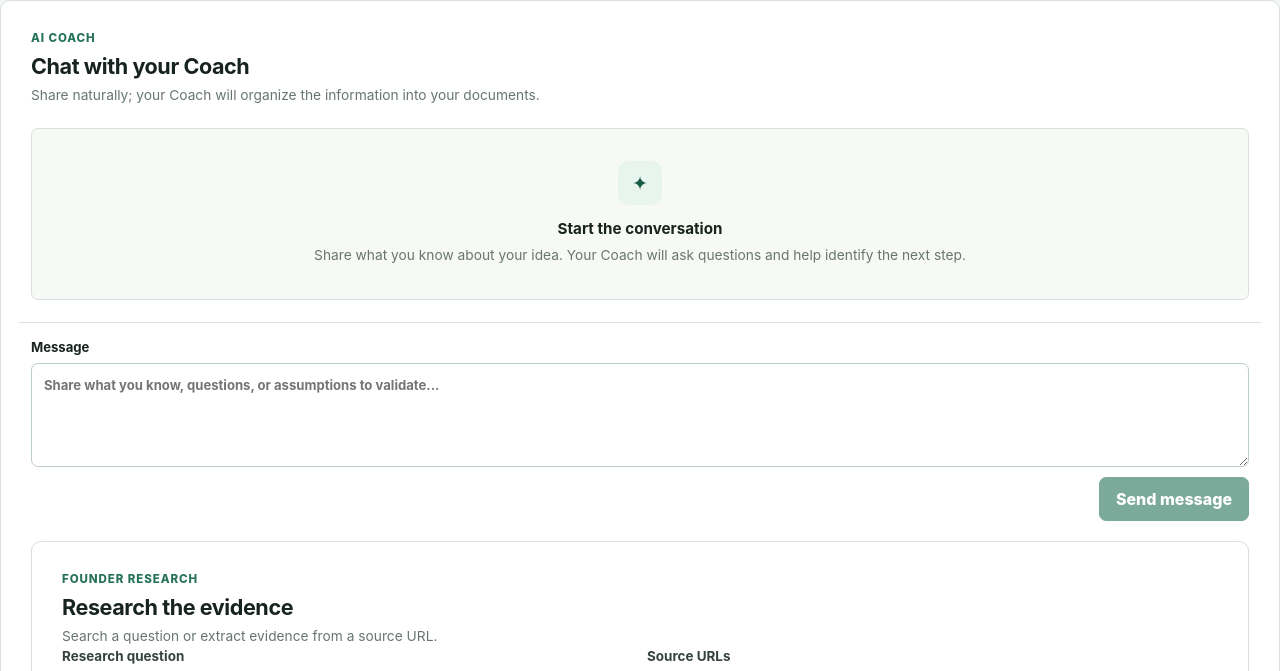
Scenario: ChatPanel › renders structured evidence returned by a chat research turn
Type "Research this" into the text box labelled "Message" at x=640, y=415, box [31,363,1249,467]
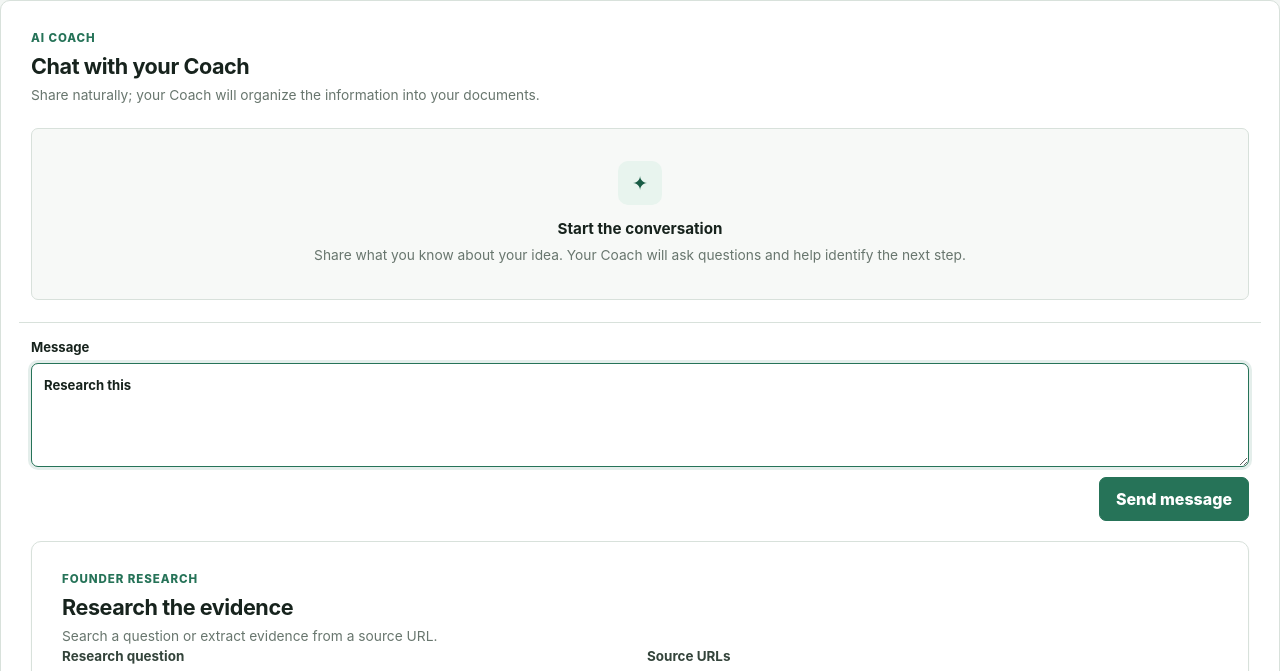
Click the button "Send message" at x=1174, y=499, box [1099,477,1249,521]
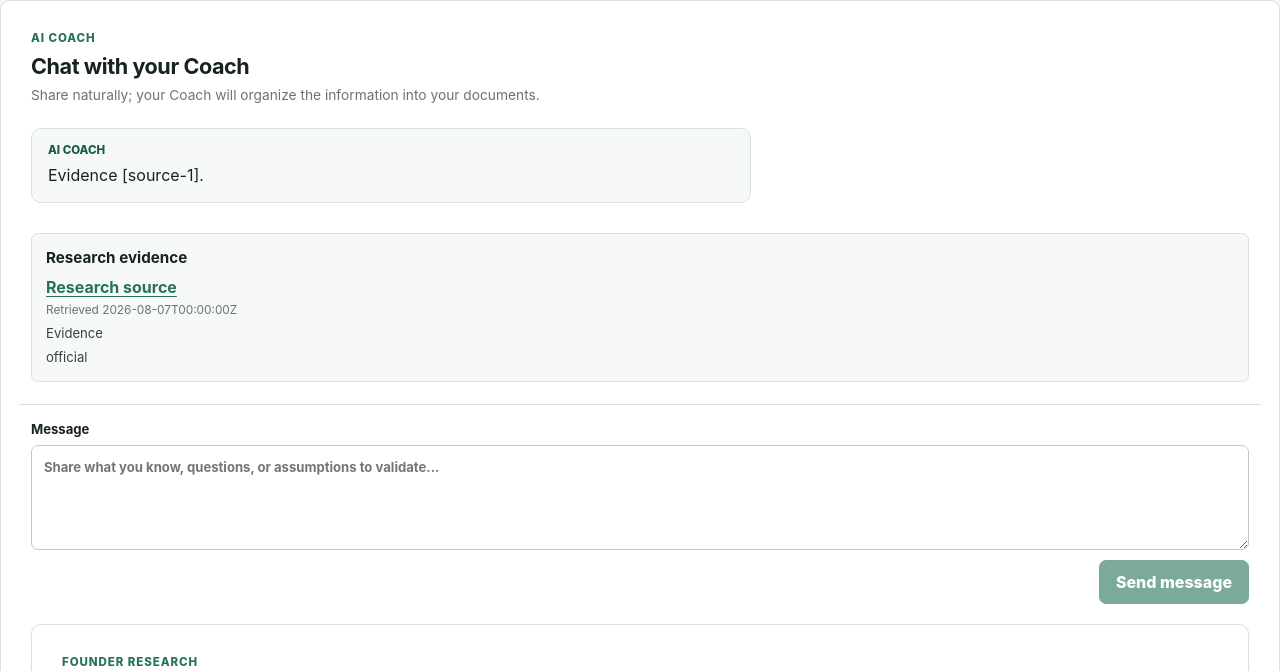
Check: the link "Research source" is shown, box [46,277,177,297]
